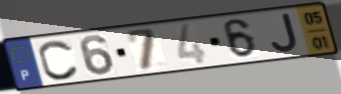4: (175, 22, 209, 66)
6: (77, 33, 116, 78), (222, 18, 259, 60)
7: (125, 26, 162, 73)
C: (36, 39, 81, 82)
J: (269, 11, 300, 54)
